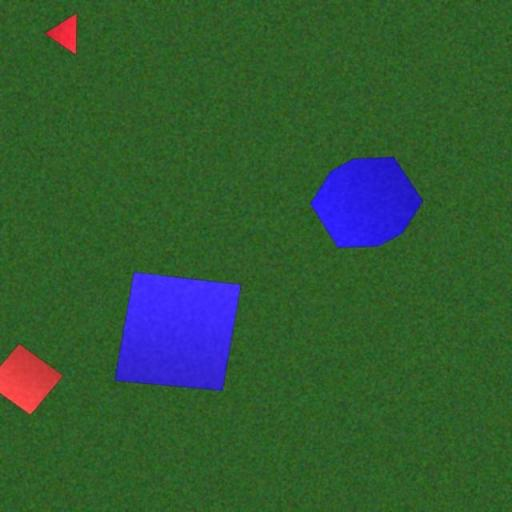BLUE_SQUARE: (114, 271, 242, 391)
RED_SQUARE: (0, 342, 64, 416)
